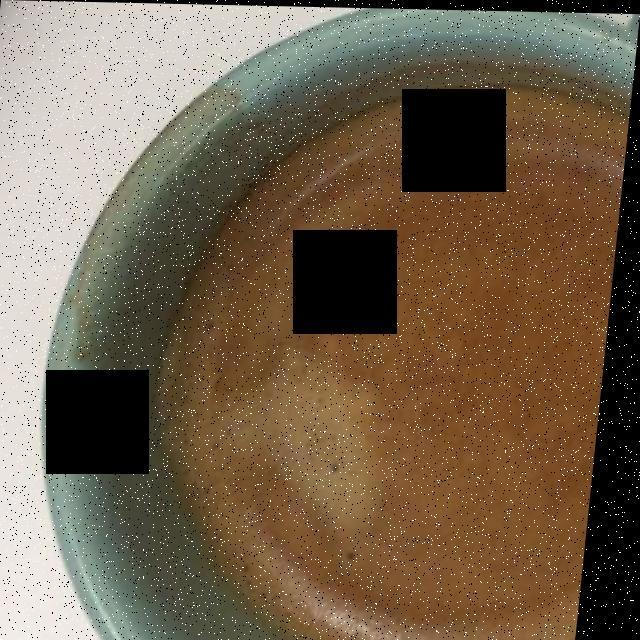coffee: (164, 76, 594, 631)
drink: (164, 76, 594, 631)
